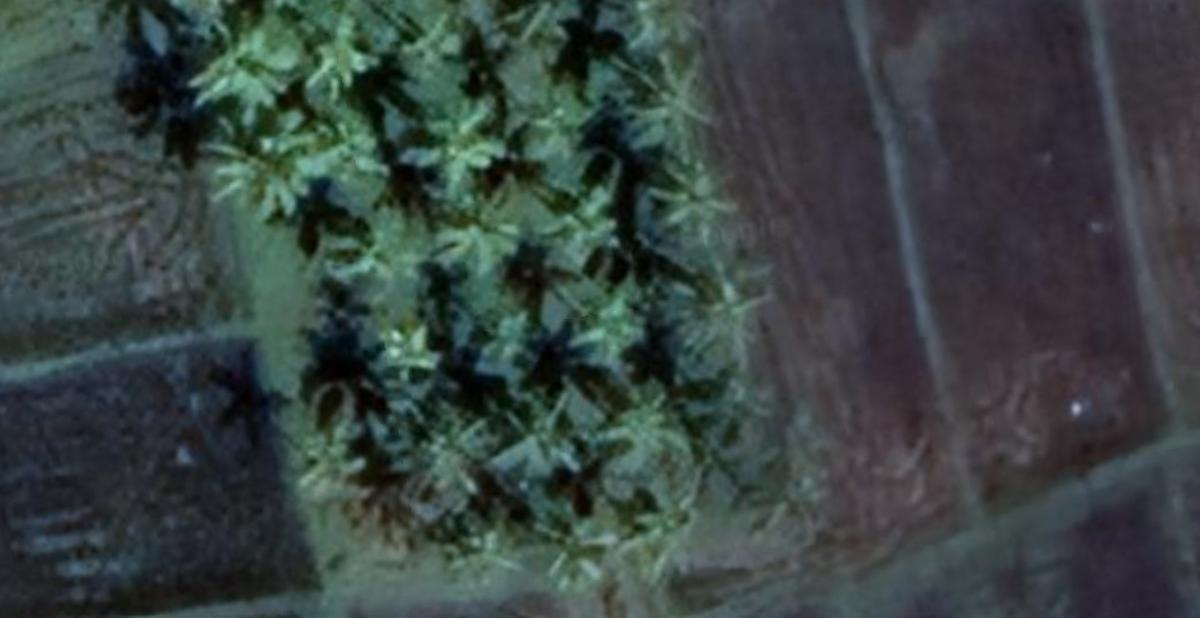coconut: (186, 116, 302, 222), (583, 388, 686, 494), (398, 96, 505, 196), (419, 206, 528, 293), (297, 111, 401, 201), (538, 164, 636, 257), (193, 23, 289, 117), (494, 386, 586, 482), (315, 209, 404, 304), (639, 153, 727, 246), (561, 276, 644, 371), (638, 49, 720, 135), (291, 25, 384, 100), (616, 500, 705, 576), (699, 270, 780, 352), (453, 313, 534, 388), (439, 525, 529, 590), (541, 515, 614, 591), (373, 326, 446, 385)
